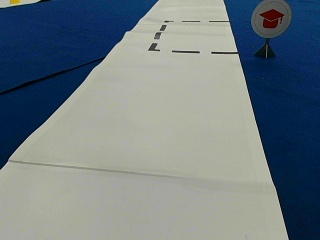school: (251, 1, 290, 37)
